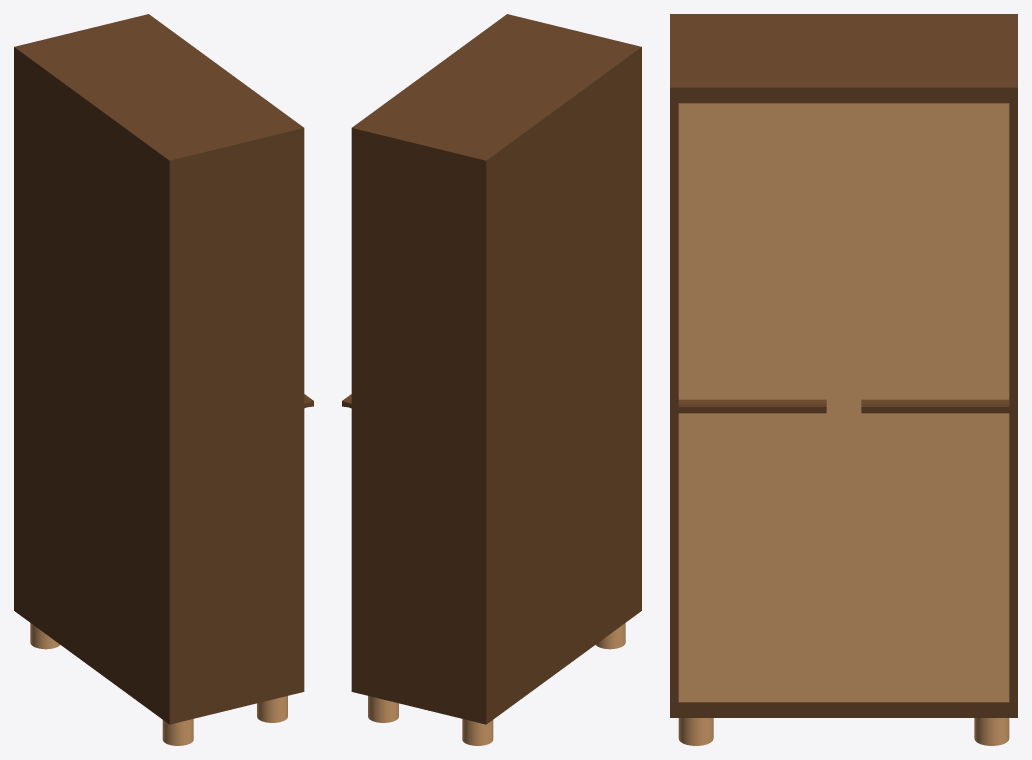
Rendered from wardrobe.fbx.
3 renders of one model, left to right at view 1: azimuth 30°, elevation 25°; view 2: azimuth 150°, elevation 25°; view 3: azimuth 270°, elevation 25°, orthographic. The views are drawn at different scales.
Visible parts, largest first — view 1: Armoire; view 2: Armoire; view 3: PorteDroite, PorteGauche, Armoire.
Boxes of the visible parts, box(x1,y1,x2,y2) form: Armoire: box(14, 14, 304, 745); Armoire: box(351, 14, 641, 745); PorteDroite: box(844, 103, 1009, 702); PorteGauche: box(678, 103, 843, 702); Armoire: box(670, 14, 1017, 745).
Size of the model in its own units: 110 by 420 by 200.
